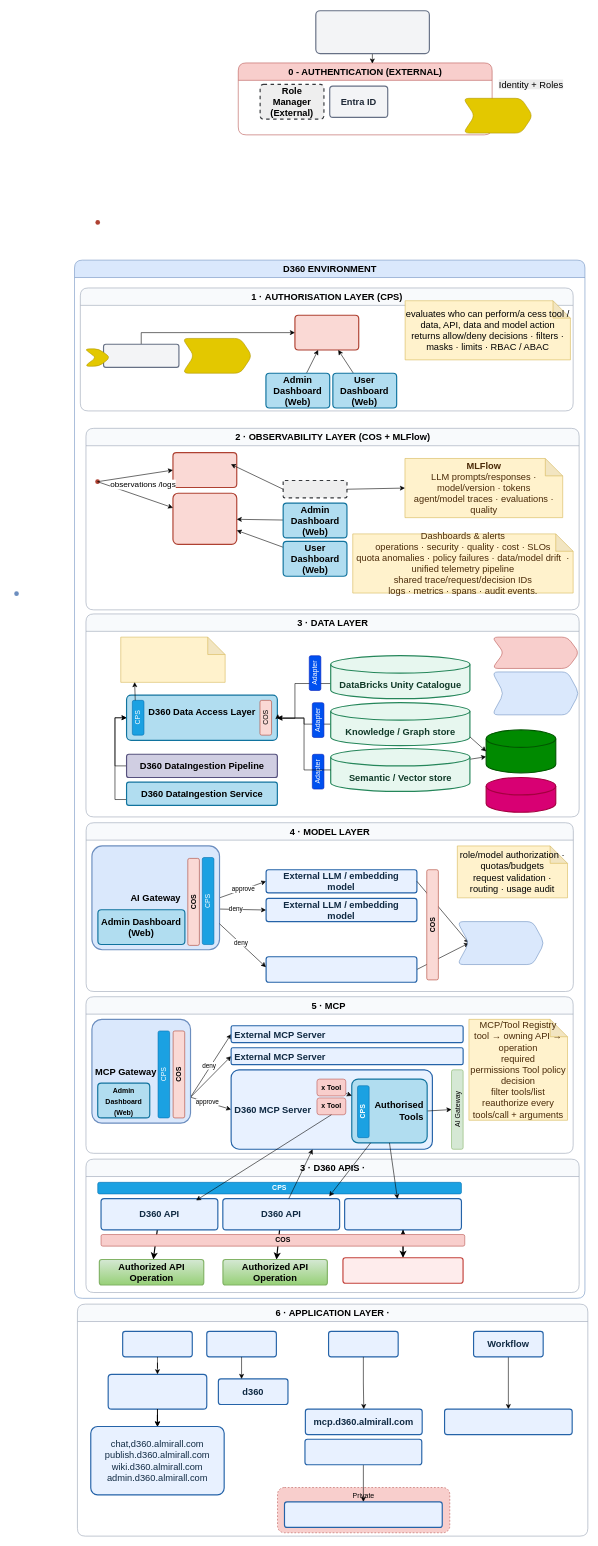
Image size: 598x1546. Some labels were removed from this diagram. The centre of each missing label's shape, as x and y in pixels:
api1.d360.private.almirall.com: (x=363, y=1514)
apis.d360.almirall.com: (x=363, y=1451)
Auth Server: (x=141, y=355)
Authorized evidence Only: (x=535, y=693)
Central Observability Service (COS): (x=204, y=518)
Central Policy Service: (x=326, y=332)
Context Memory: (x=520, y=795)
D360 API B: (x=403, y=1214)
D360 Token (Access): (x=217, y=355)
d360.almirall.com: (x=157, y=1391)
D360Users / External Users / Agents: (x=372, y=32)
Data policy decision Allowed datasets · entity/row predicates: (x=172, y=659)
Databrick UI: (x=314, y=489)
Deny API operation: (x=402, y=1270)
Deny or Filter data: (x=535, y=652)
Generative Output (Text / Image / Sound): (x=500, y=943)
Internal LLM / embedding model: (x=341, y=969)
ML Flow: (x=204, y=470)
Mobile: (x=241, y=1344)
OAUTH Token: (x=498, y=115)
runner.d360.almirall.com: (x=508, y=1421)
Service: (x=363, y=1344)
Web: (x=157, y=1344)
WIKIs: (x=520, y=751)
